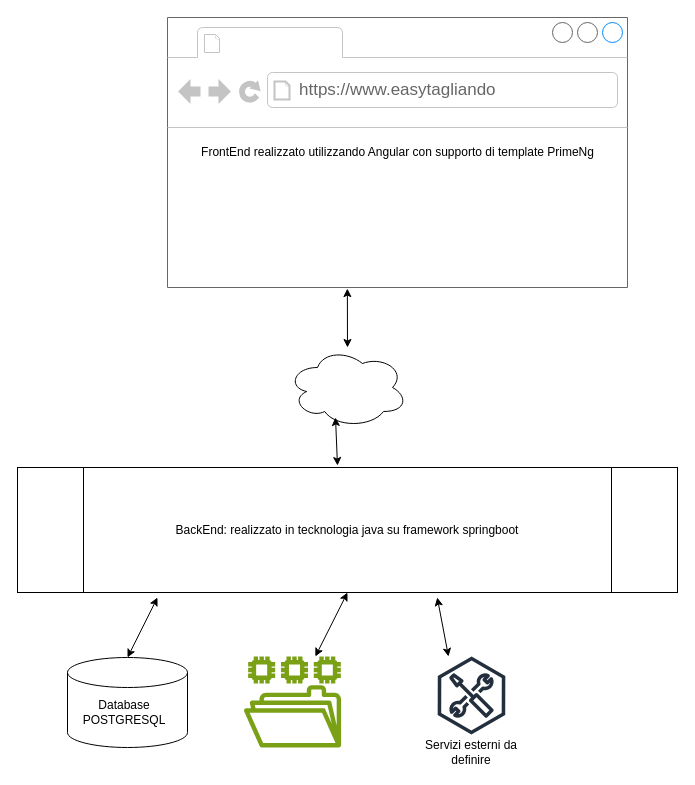
Some shapes in this 695 by 785 pixel diagram are drawn without their labels. Each missing label, with the box of its shape:
File System: (243, 656, 341, 747)
Page 1: (226, 28, 338, 56)
